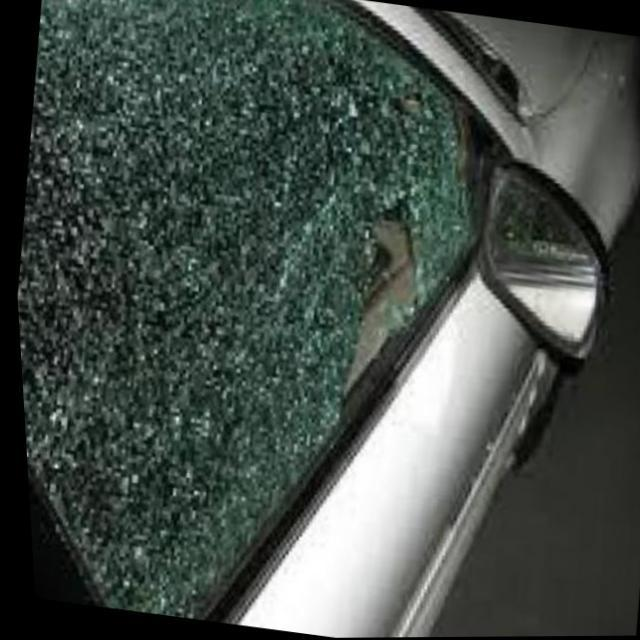glass shatter: (14, 0, 496, 619)
